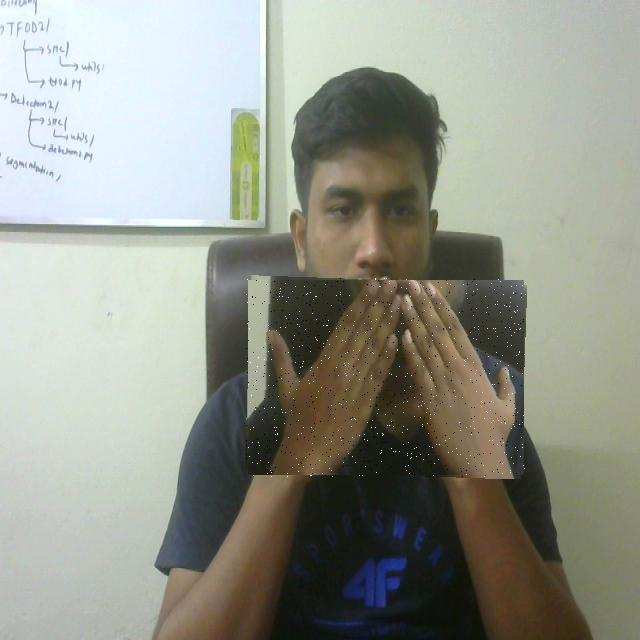Thanks: (246, 278, 526, 477)
